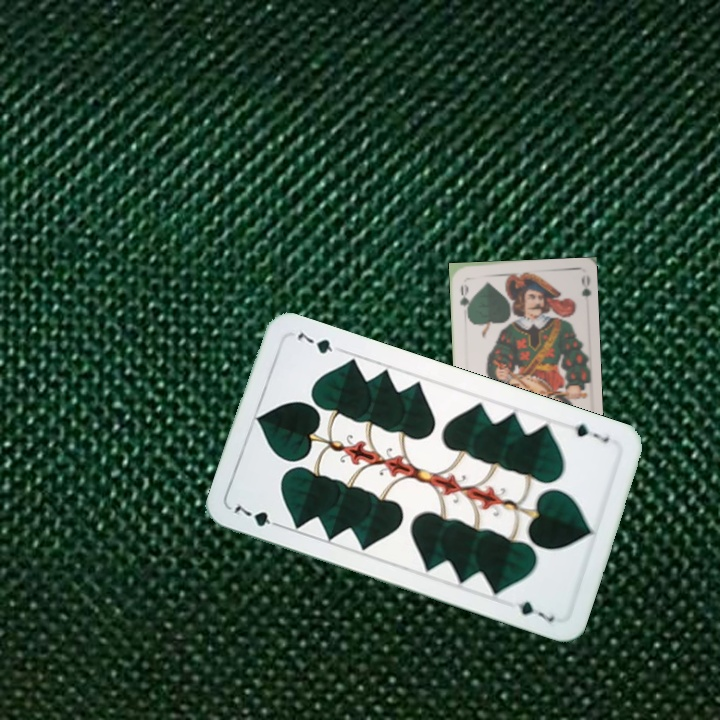G7: (229, 499, 286, 531), (570, 419, 612, 445)
GO: (456, 280, 473, 317)
